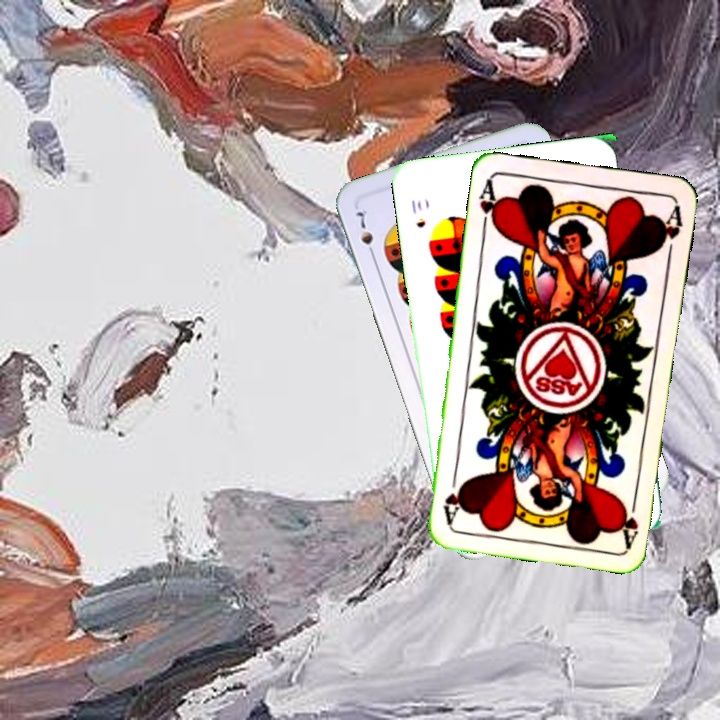HA: (475, 176, 503, 236), (618, 489, 641, 548)
S10: (407, 195, 428, 231)
S7: (352, 206, 378, 262)
